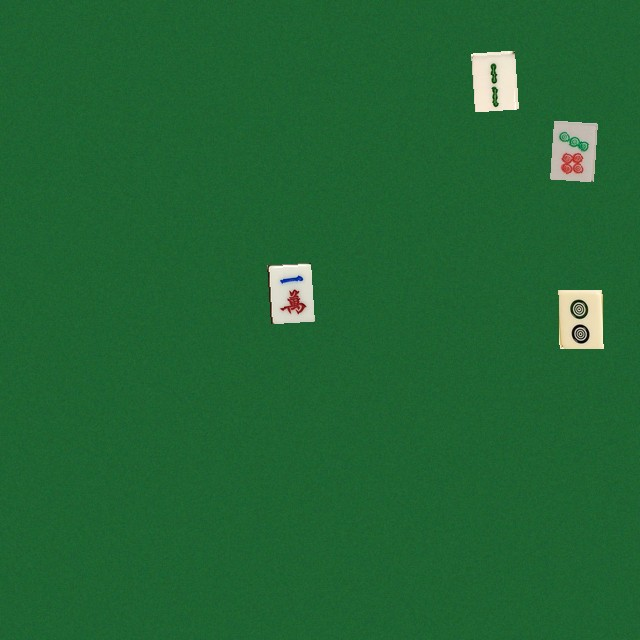tile: (470, 50, 514, 109), (550, 120, 594, 179), (558, 289, 602, 348), (267, 262, 311, 321)
